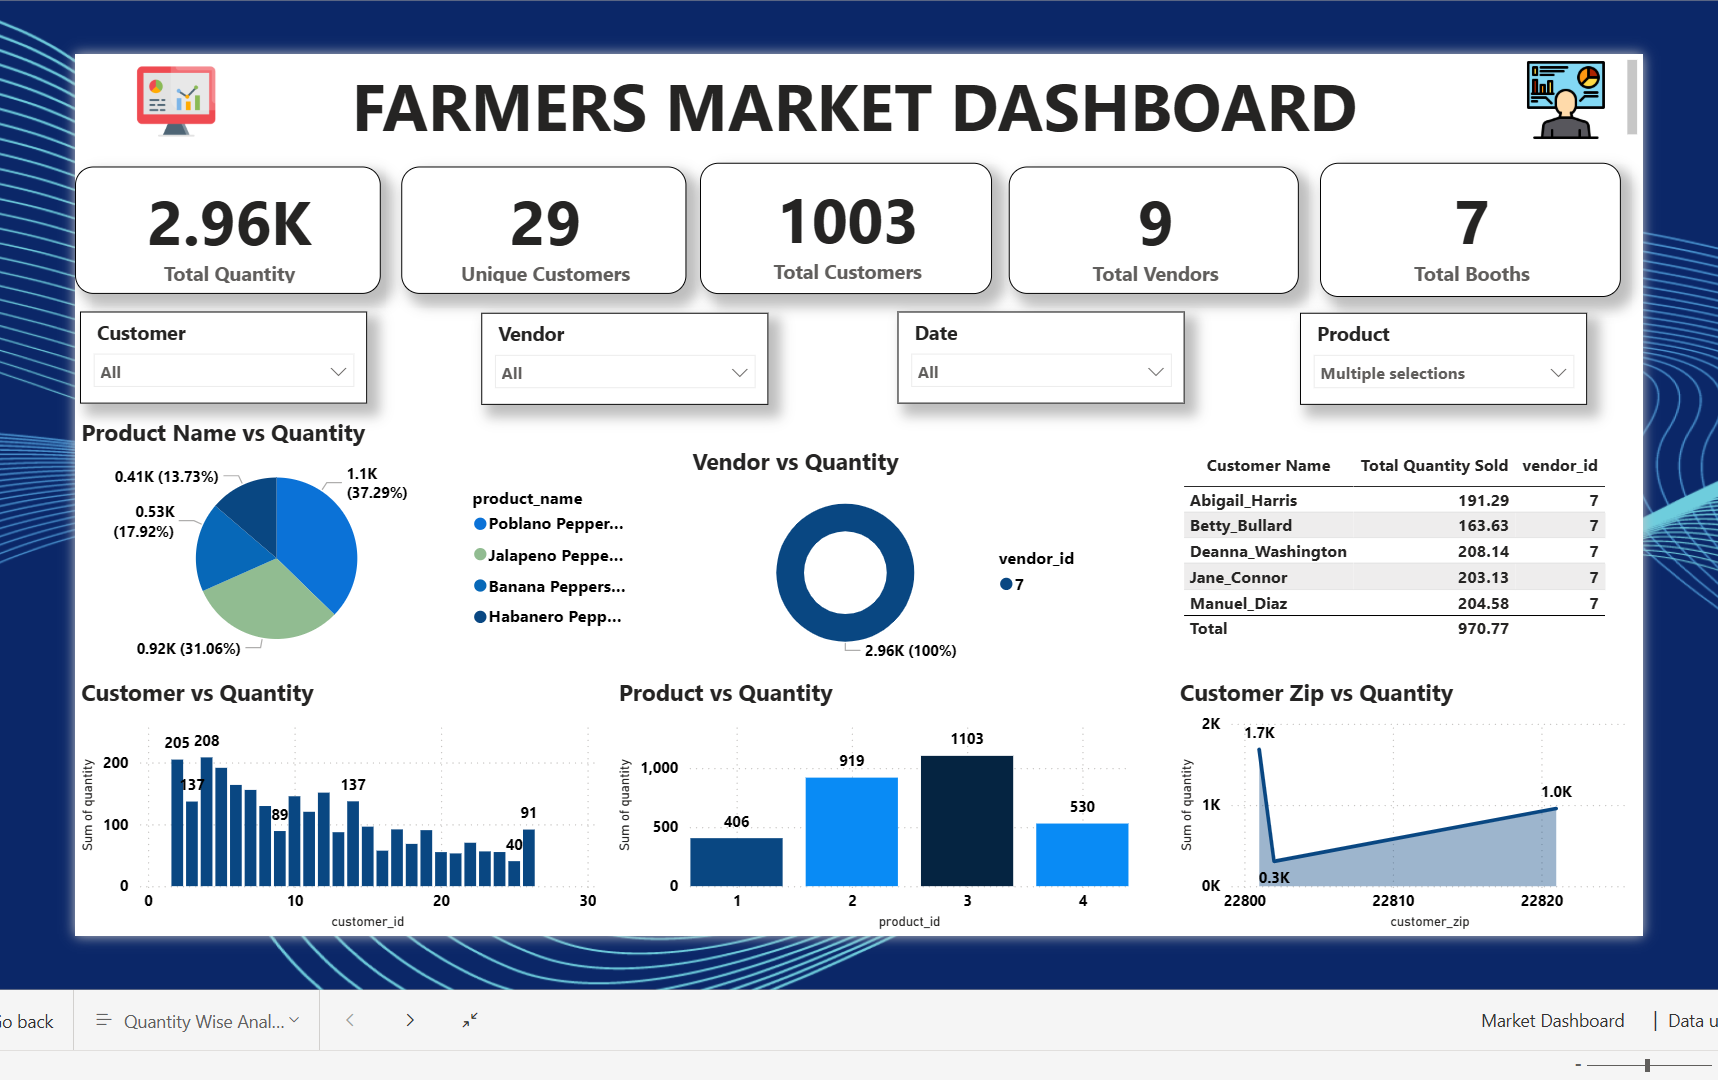

The page's visual inventory and layout, read from the dashboard file:
{"tool":"powerbi","page":{"name":"Quantity Wise Analysis","canvas":[1280,720],"ordinal":0},"visuals":[{"type":"columnChart","title":"Customer vs Quantity","fields":{"Category":["customer_purchases.customer_id"],"Y":["Sum(customer_purchases.quantity)"]},"box":[0,508.7,430.5,211.1],"z":0},{"type":"clusteredColumnChart","title":"Product vs Quantity","fields":{"Y":["Sum(customer_purchases.quantity)"],"Category":["product.product_id"]},"box":[438.7,508.7,426.4,211.1],"z":1000},{"type":"pieChart","title":"Product Name vs Quantity","fields":{"Y":["Sum(customer_purchases.quantity)"],"Category":["product.product_name"]},"box":[0,296.1,467.5,207],"z":2000},{"type":"donutChart","title":"Vendor vs Quantity","fields":{"Category":["customer_purchases.vendor_id"],"Y":["Sum(customer_purchases.quantity)"]},"box":[499.1,319.5,344.1,183.7],"z":3000},{"type":"textbox","box":[0,0,1280.6,75.4],"z":4000},{"type":"image","box":[1153,0,127.5,75.4],"z":5000},{"type":"image","box":[43.9,0,78.1,78.1],"z":6000},{"type":"card","fields":{"Values":["Sum(customer_purchases.quantity)"]},"box":[0,91.9,249.5,104.2],"z":7000},{"type":"card","fields":{"Values":["Count(customer_purchases.customer_id)"]},"box":[266,91.9,233.1,104.2],"z":8000},{"type":"card","fields":{"Values":["CountNonNull(customer_purchases.customer_id)"]},"box":[510,89.1,238.6,106.9],"z":9000},{"type":"card","fields":{"Values":["Count(vendor.vendor_id)"]},"box":[762.3,91.9,237.2,104.2],"z":10000},{"type":"card","fields":{"Values":["Count(vendor_booth_assignments.booth_number)"]},"box":[1015.9,89.1,245.4,109.7],"z":11000},{"type":"tableEx","fields":{"Values":["customer.Customer_FUll_Name","Sum(customer_purchases.quantity)","customer_purchases.vendor_id"]},"box":[899.4,319.5,377,170],"z":12000},{"type":"areaChart","title":"Customer Zip vs Quantity","fields":{"Category":["customer.customer_zip"],"Y":["Sum(customer_purchases.quantity)"]},"box":[896.7,508.7,383.9,211.1],"z":13000},{"type":"slicer","fields":{"Values":["customer.customer_id"]},"box":[4.1,209.8,234.4,75.4],"z":14000},{"type":"slicer","fields":{"Values":["customer_purchases.vendor_id"]},"box":[331.8,211.1,234.4,75.4],"z":15000},{"type":"slicer","fields":{"Values":["market_date_info.market_date"]},"box":[671.8,209.8,234.4,75.4],"z":16000},{"type":"slicer","fields":{"Values":["customer_purchases.product_id"]},"box":[999.5,211.1,234.4,75.4],"z":17000}]}

Visuals, with their boxes on the page's 1280x720 design canvas (x1, y1, x2, y2). These are canvas units, not pixel positions in the 1718x1080 screenshot, which may show the page scaled, cropped or inside an application window:
"Customer vs Quantity" columnChart: box=[0, 509, 430, 720]
"Product vs Quantity" clusteredColumnChart: box=[439, 509, 865, 720]
"Product Name vs Quantity" pieChart: box=[0, 296, 468, 503]
"Vendor vs Quantity" donutChart: box=[499, 320, 843, 503]
textbox: box=[0, 0, 1281, 75]
image: box=[1153, 0, 1280, 75]
image: box=[44, 0, 122, 78]
card - Sum(customer_purchases.quantity): box=[0, 92, 250, 196]
card - Count(customer_purchases.customer_id): box=[266, 92, 499, 196]
card - CountNonNull(customer_purchases.customer_id): box=[510, 89, 749, 196]
card - Count(vendor.vendor_id): box=[762, 92, 1000, 196]
card - Count(vendor_booth_assignments.booth_number): box=[1016, 89, 1261, 199]
tableEx - customer.Customer_FUll_Name x Sum(customer_purchases.quantity): box=[899, 320, 1276, 490]
"Customer Zip vs Quantity" areaChart: box=[897, 509, 1281, 720]
slicer - customer.customer_id: box=[4, 210, 238, 285]
slicer - customer_purchases.vendor_id: box=[332, 211, 566, 286]
slicer - market_date_info.market_date: box=[672, 210, 906, 285]
slicer - customer_purchases.product_id: box=[1000, 211, 1234, 286]
